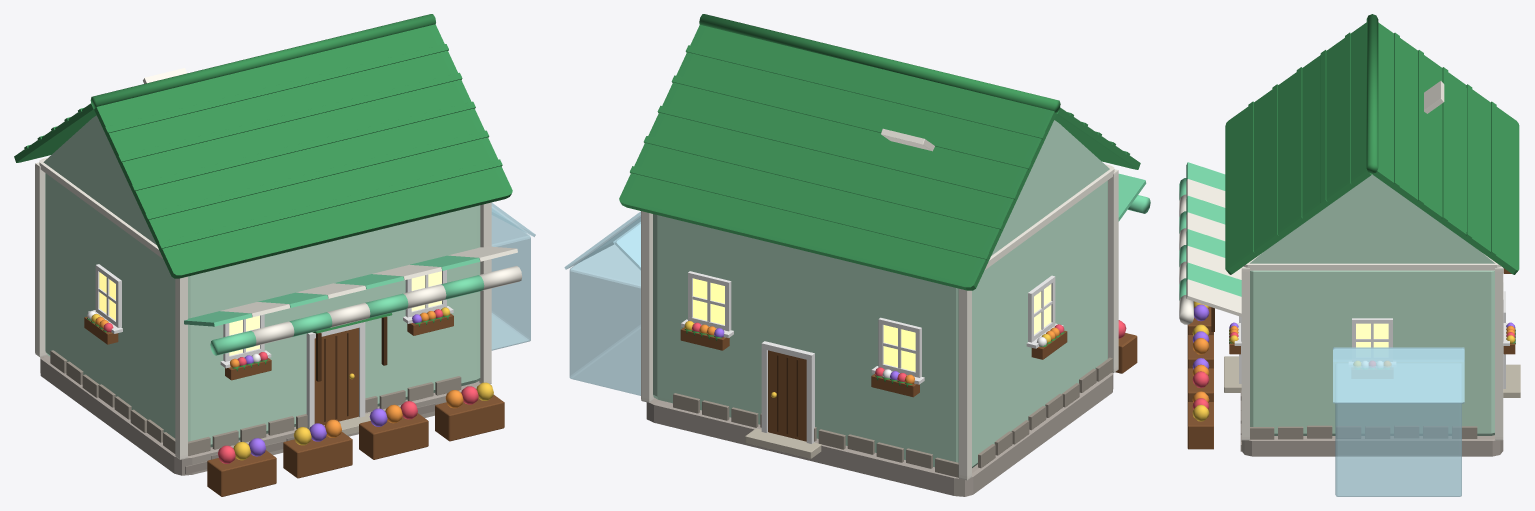
File: kvetinarstvi.glb
3 renders of one model, left to right at view 1: azimuth 30°, elevation 25°; view 2: azimuth 150°, elevation 25°; view 3: azimuth 270°, elevation 25°, orthographic. The views are drawn at different scales.
Visible parts, largest first — view 1: kvetinarstvi; view 2: kvetinarstvi; view 3: kvetinarstvi.
Part boxes in pixels (x1=…): kvetinarstvi: x1=14, y1=14, x2=535, y2=496; kvetinarstvi: x1=564, y1=14, x2=1150, y2=496; kvetinarstvi: x1=1179, y1=14, x2=1520, y2=496.
Size of the model in its own units: 8.33 by 6.27 by 6.47.
Materials: 3 (3 with a texture image).
